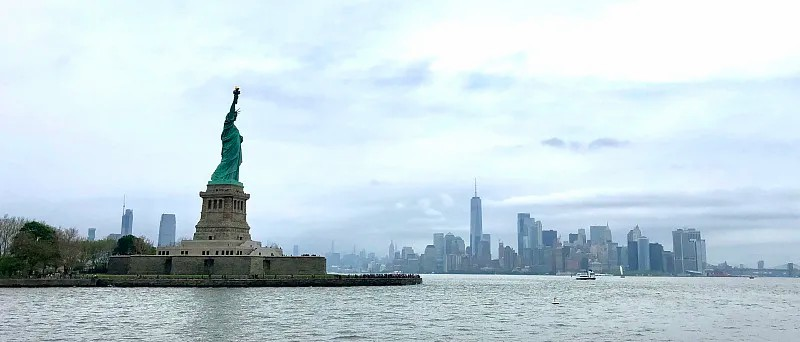SL: (193, 86, 251, 240)
